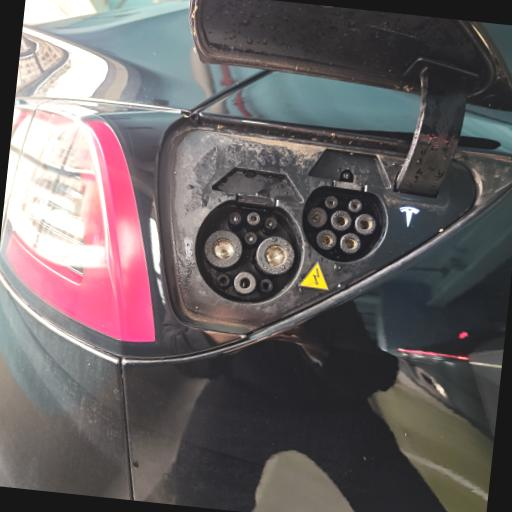AC_charging_hole: (296, 181, 393, 269)
DC_charging_port: (186, 195, 308, 312)
DC_hole: (253, 234, 296, 278), (202, 226, 244, 270)
PE: (232, 270, 258, 296)
